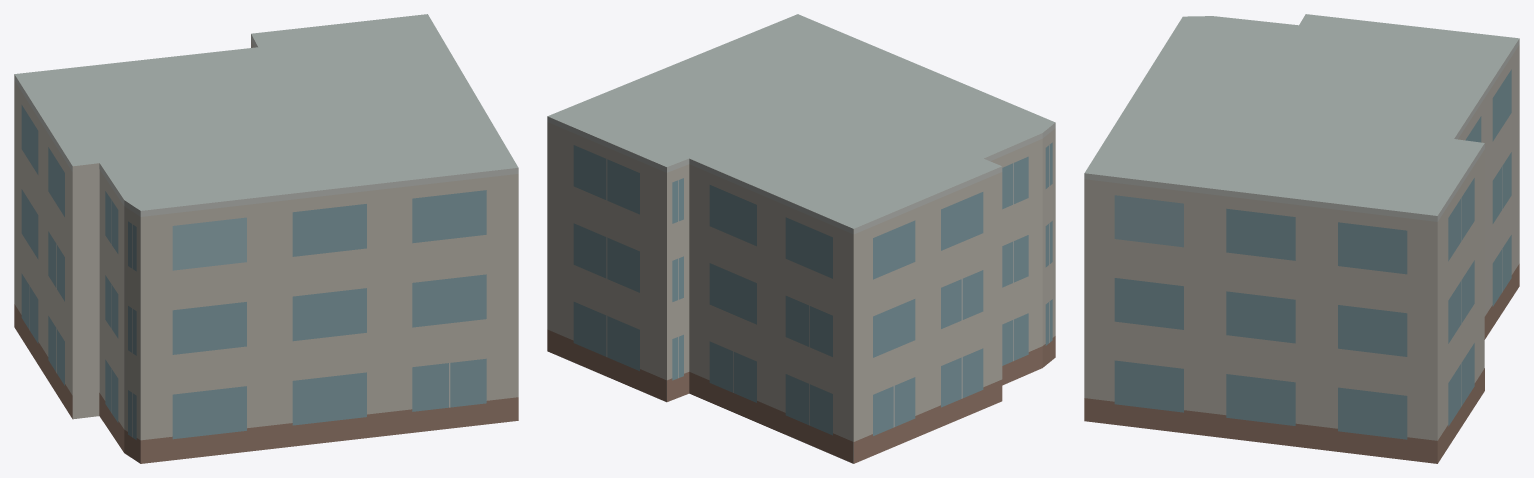
Rendered from survey-upis-32973721.glb.
3 views of the same model, side by side, from view 1: azimuth 30°, elevation 25°; view 2: azimuth 150°, elevation 25°; view 3: azimuth 270°, elevation 25° (orthographic). The views are drawn at different scales.
Visible parts, largest first — view 1: survey-upis-32973721.tmp; view 2: survey-upis-32973721.tmp; view 3: survey-upis-32973721.tmp.
Boxes of the visible parts, bbox=[...] form: survey-upis-32973721.tmp: bbox=[14, 14, 518, 463]; survey-upis-32973721.tmp: bbox=[547, 14, 1055, 463]; survey-upis-32973721.tmp: bbox=[1084, 14, 1519, 463].
Size of the model in its own units: 17.84 by 10.2 by 16.24.
